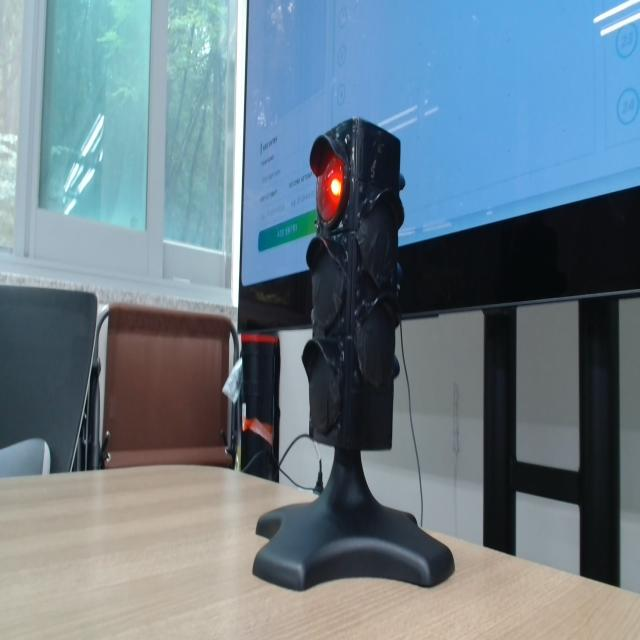red_light: (317, 153, 345, 224)
